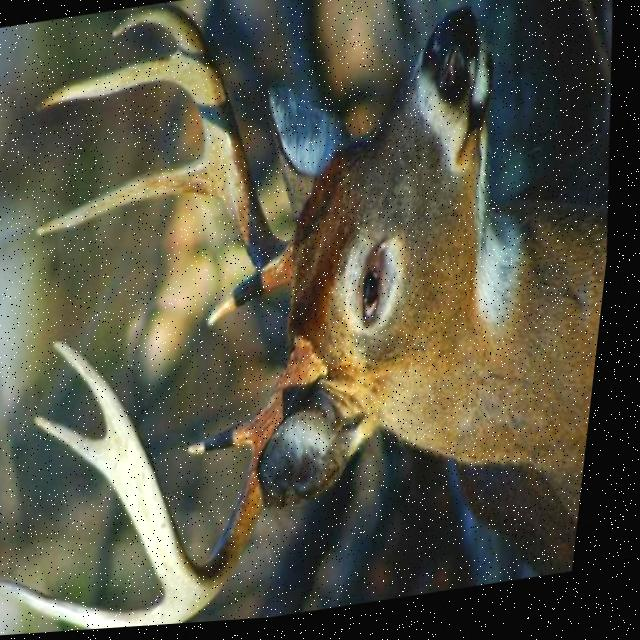E1: (43, 414, 119, 480)
L-F: (59, 338, 336, 614)
R-F: (112, 3, 300, 291)
R-G1: (214, 268, 280, 330), (196, 414, 269, 458)
R-G2: (40, 152, 222, 234), (8, 579, 210, 631)
R-G3: (39, 52, 189, 113)
